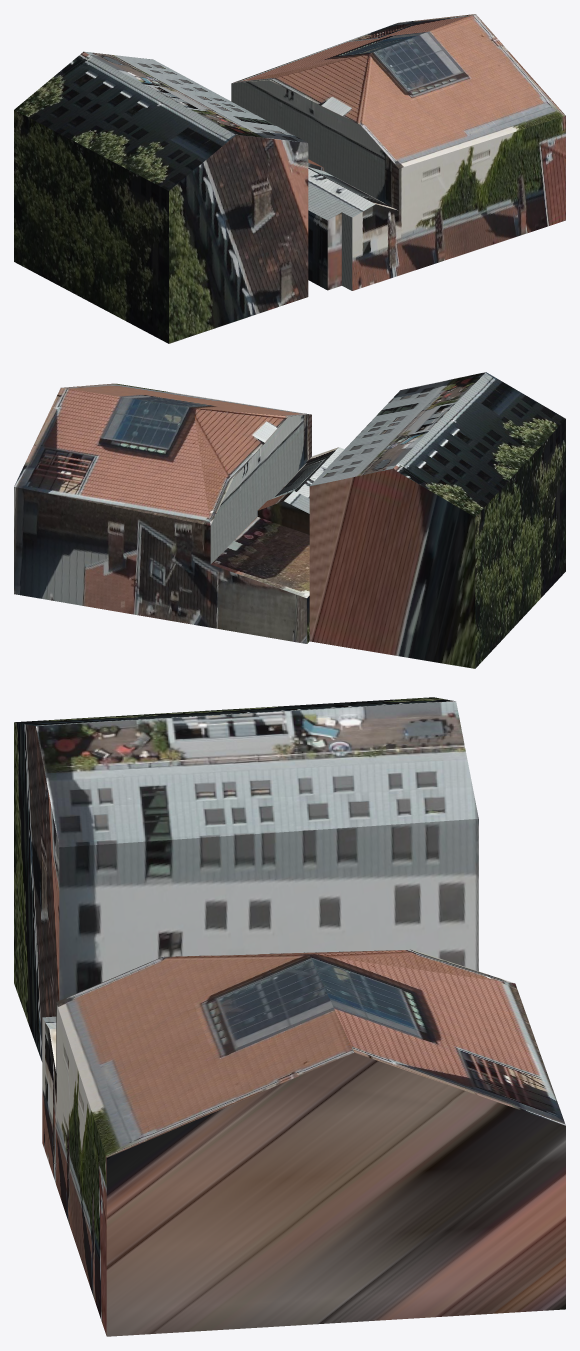
3 views of the same model, one above another, from view 1: azimuth 30°, elevation 25°; view 2: azimuth 150°, elevation 25°; view 3: azimuth 270°, elevation 25° (orthographic). The views are drawn at different scales.
Parts seen in each view (by area): view 1: Z_UP; view 2: Z_UP; view 3: Z_UP.
Part boxes in pixels (left/top/right/bottom): Z_UP: left=14, top=14, right=565, bottom=343; Z_UP: left=14, top=372, right=565, bottom=668; Z_UP: left=14, top=697, right=565, bottom=1336.
Bounding box in the file's own units: 42.93 × 16.79 × 26.34.
2 materials, 1 textured.
